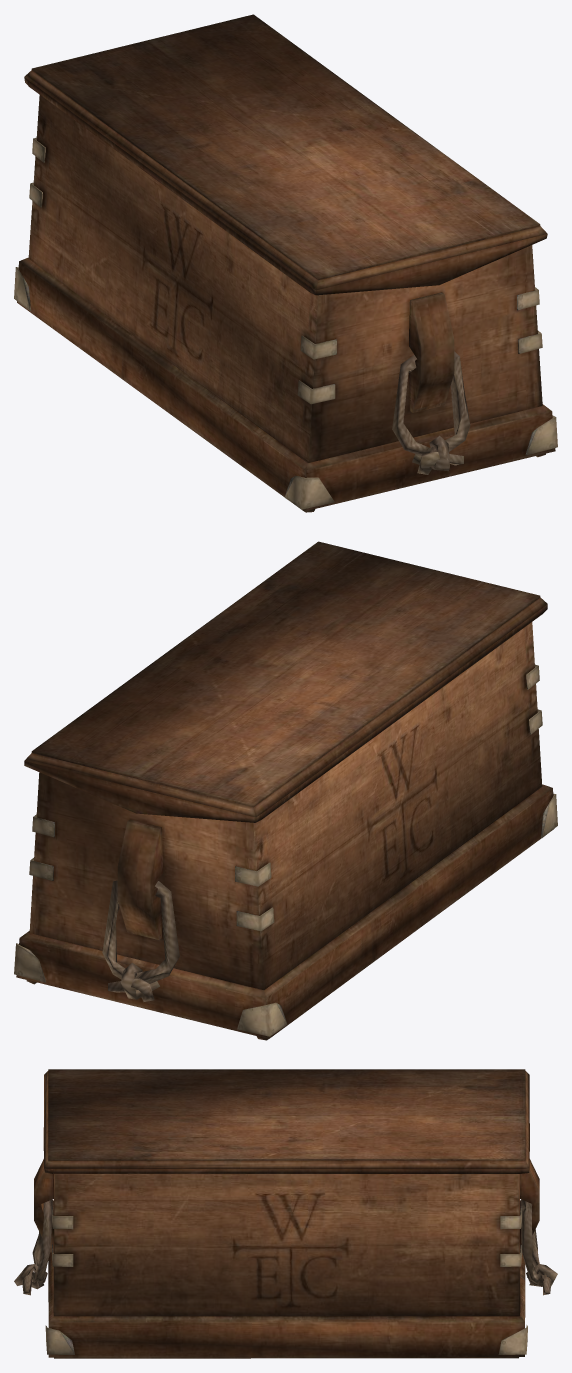
The model's file is wooden_crate_02.glb.
3 views of the same model, one above another, from view 1: azimuth 30°, elevation 25°; view 2: azimuth 150°, elevation 25°; view 3: azimuth 270°, elevation 25° (orthographic). The views are drawn at different scales.
Parts seen in each view (by area): view 1: wooden_crate_02_crate; view 2: wooden_crate_02_crate; view 3: wooden_crate_02_crate.
Boxes of the visible parts, x1,y1,x2,y2 form: wooden_crate_02_crate: (14, 14, 557, 512); wooden_crate_02_crate: (14, 541, 557, 1040); wooden_crate_02_crate: (14, 1069, 557, 1358).
Bounding box in the file's own units: 0.5291 × 0.4628 × 1.16.
Materials: 1 (1 with a texture image).
